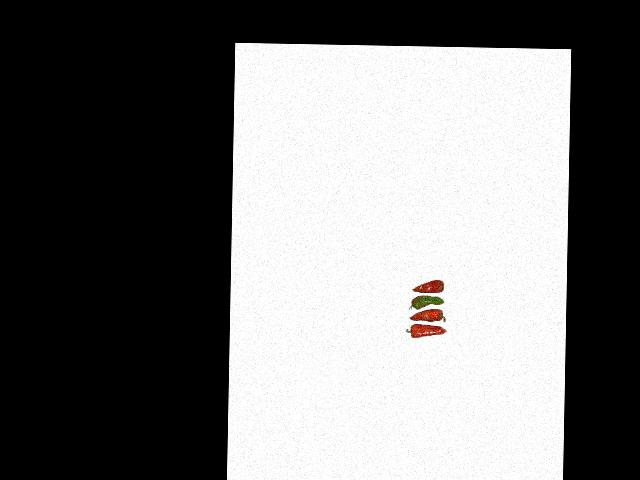bell_pepper: (409, 275, 445, 294)
